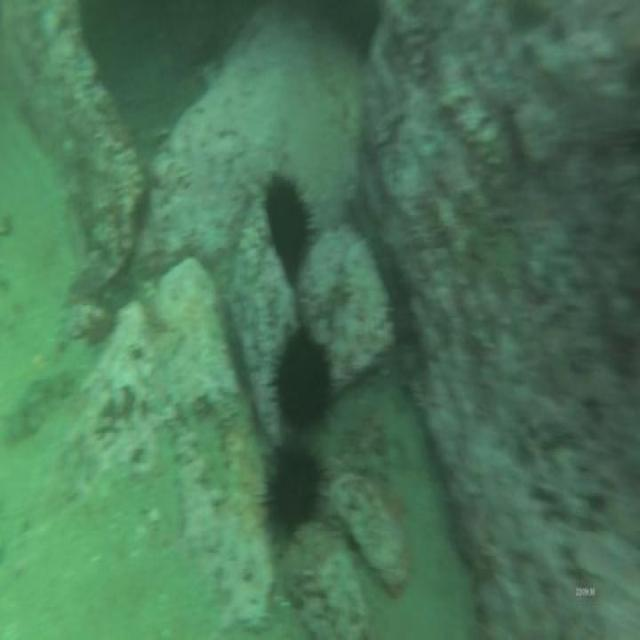echinus: (266, 307, 341, 439), (253, 163, 323, 284), (256, 441, 328, 540)
